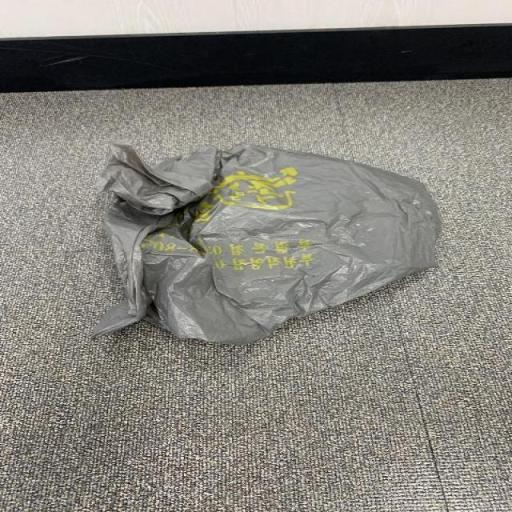plastic-bag: (86, 138, 446, 348)
